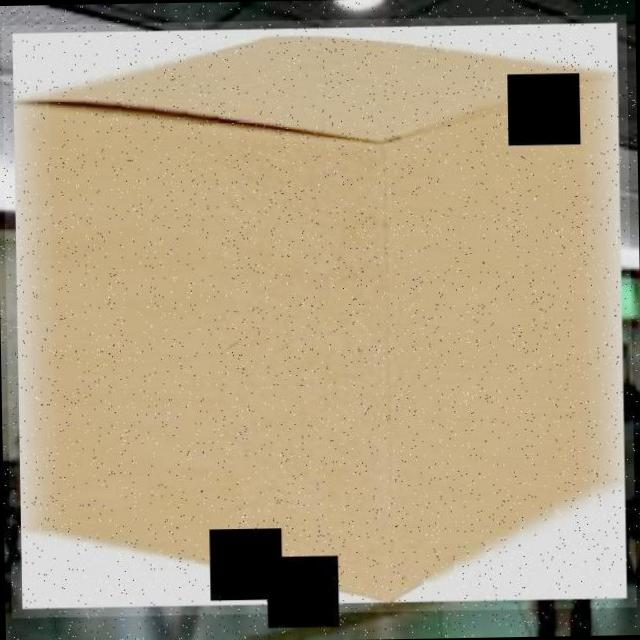box: (1, 14, 636, 618)
